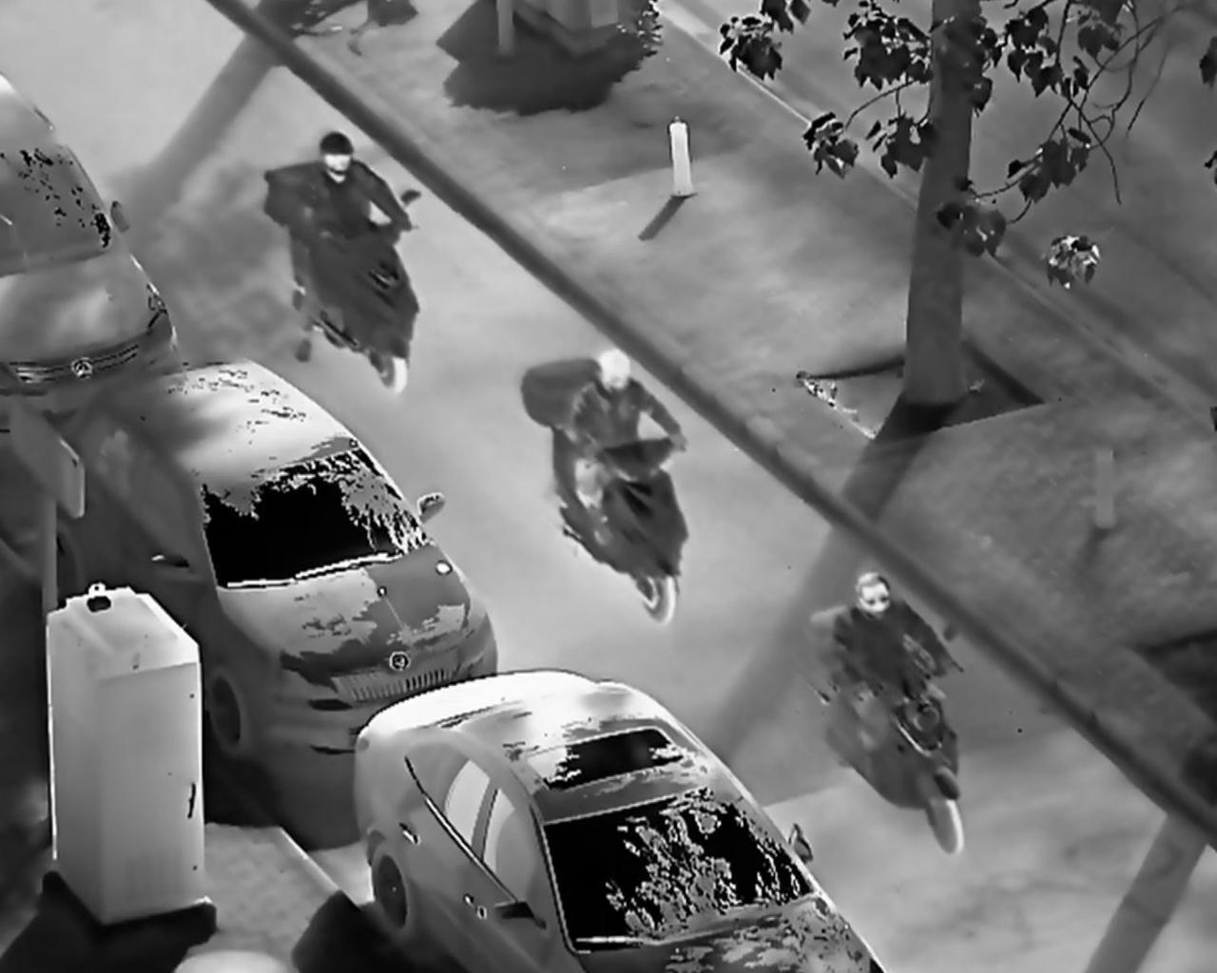person: (292, 130, 413, 366), (565, 346, 694, 553), (832, 569, 956, 762)
